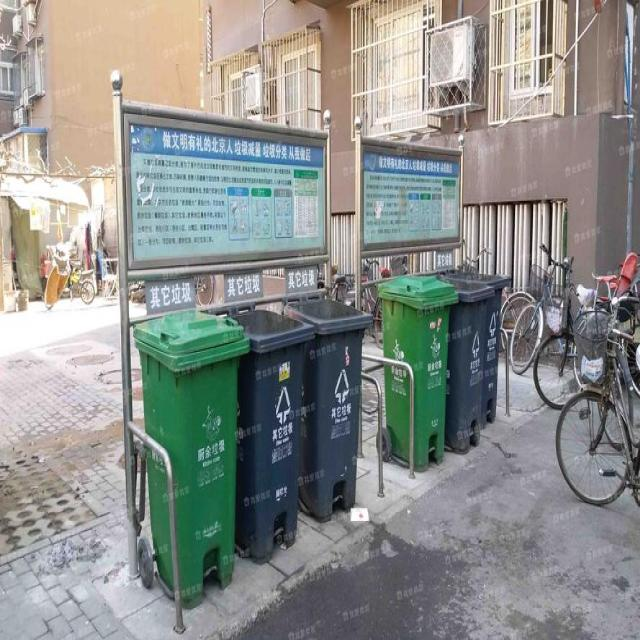garbage_bin: (132, 308, 250, 608), (230, 307, 315, 563), (287, 294, 371, 522), (379, 274, 457, 471), (436, 273, 510, 452)
